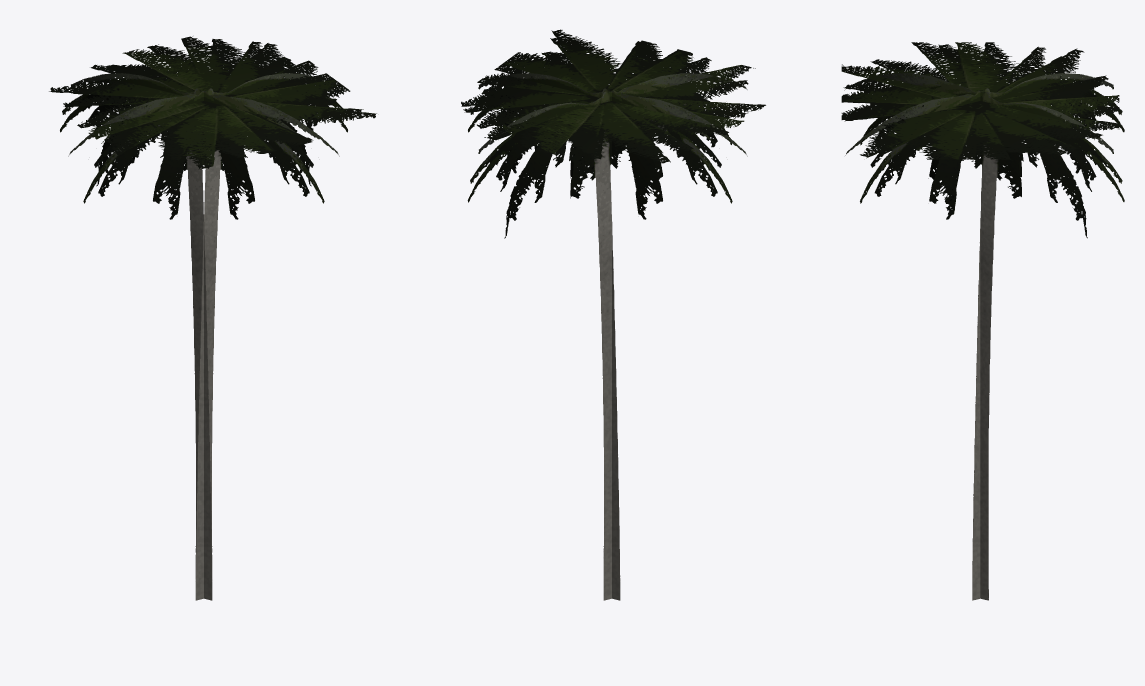
The model's file is tree_palm_queen_lod1.glb.
3 renders of one model, left to right at view 1: azimuth 30°, elevation 25°; view 2: azimuth 150°, elevation 25°; view 3: azimuth 270°, elevation 25°, orthographic.
Parts seen in each view (by area): view 1: tree_palm_queen_lod1; view 2: tree_palm_queen_lod1; view 3: tree_palm_queen_lod1.
Part boxes in pixels (bbox=[...]): tree_palm_queen_lod1: bbox=[49, 36, 376, 600]; tree_palm_queen_lod1: bbox=[461, 29, 765, 600]; tree_palm_queen_lod1: bbox=[841, 42, 1124, 600].
Size of the model in its own units: 7.44 by 12.1 by 6.44.
1 material, 1 textured.
